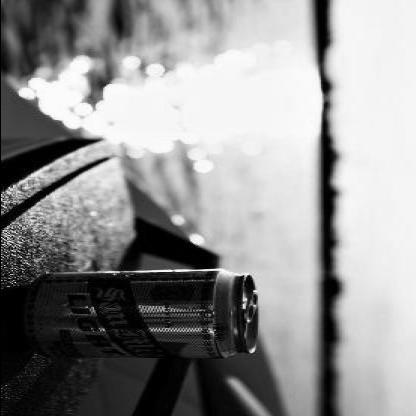alumunium_can: (17, 271, 262, 362)
